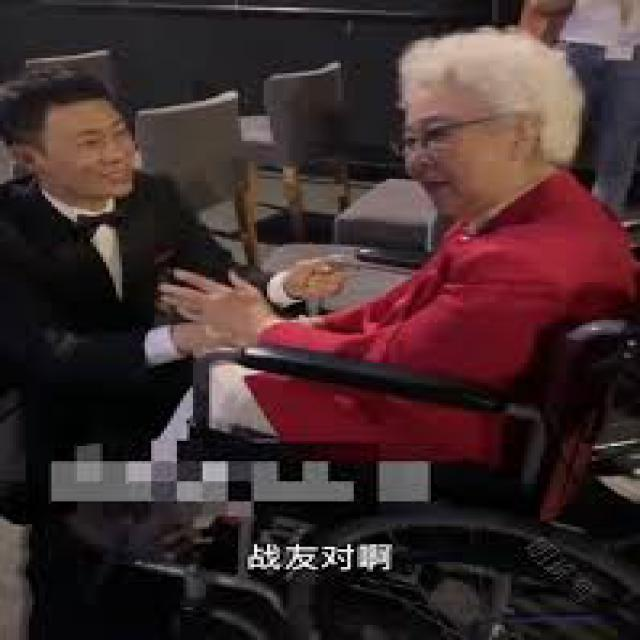wheelchairs: (158, 245, 636, 638)
